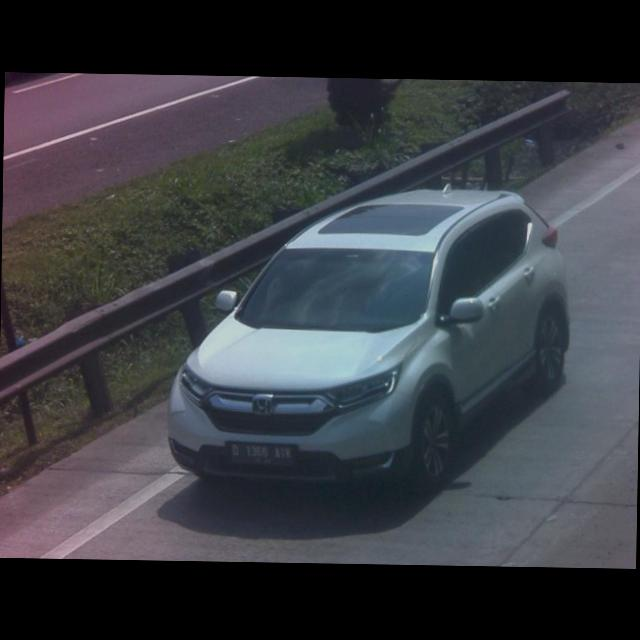plate: (228, 439, 295, 467)
